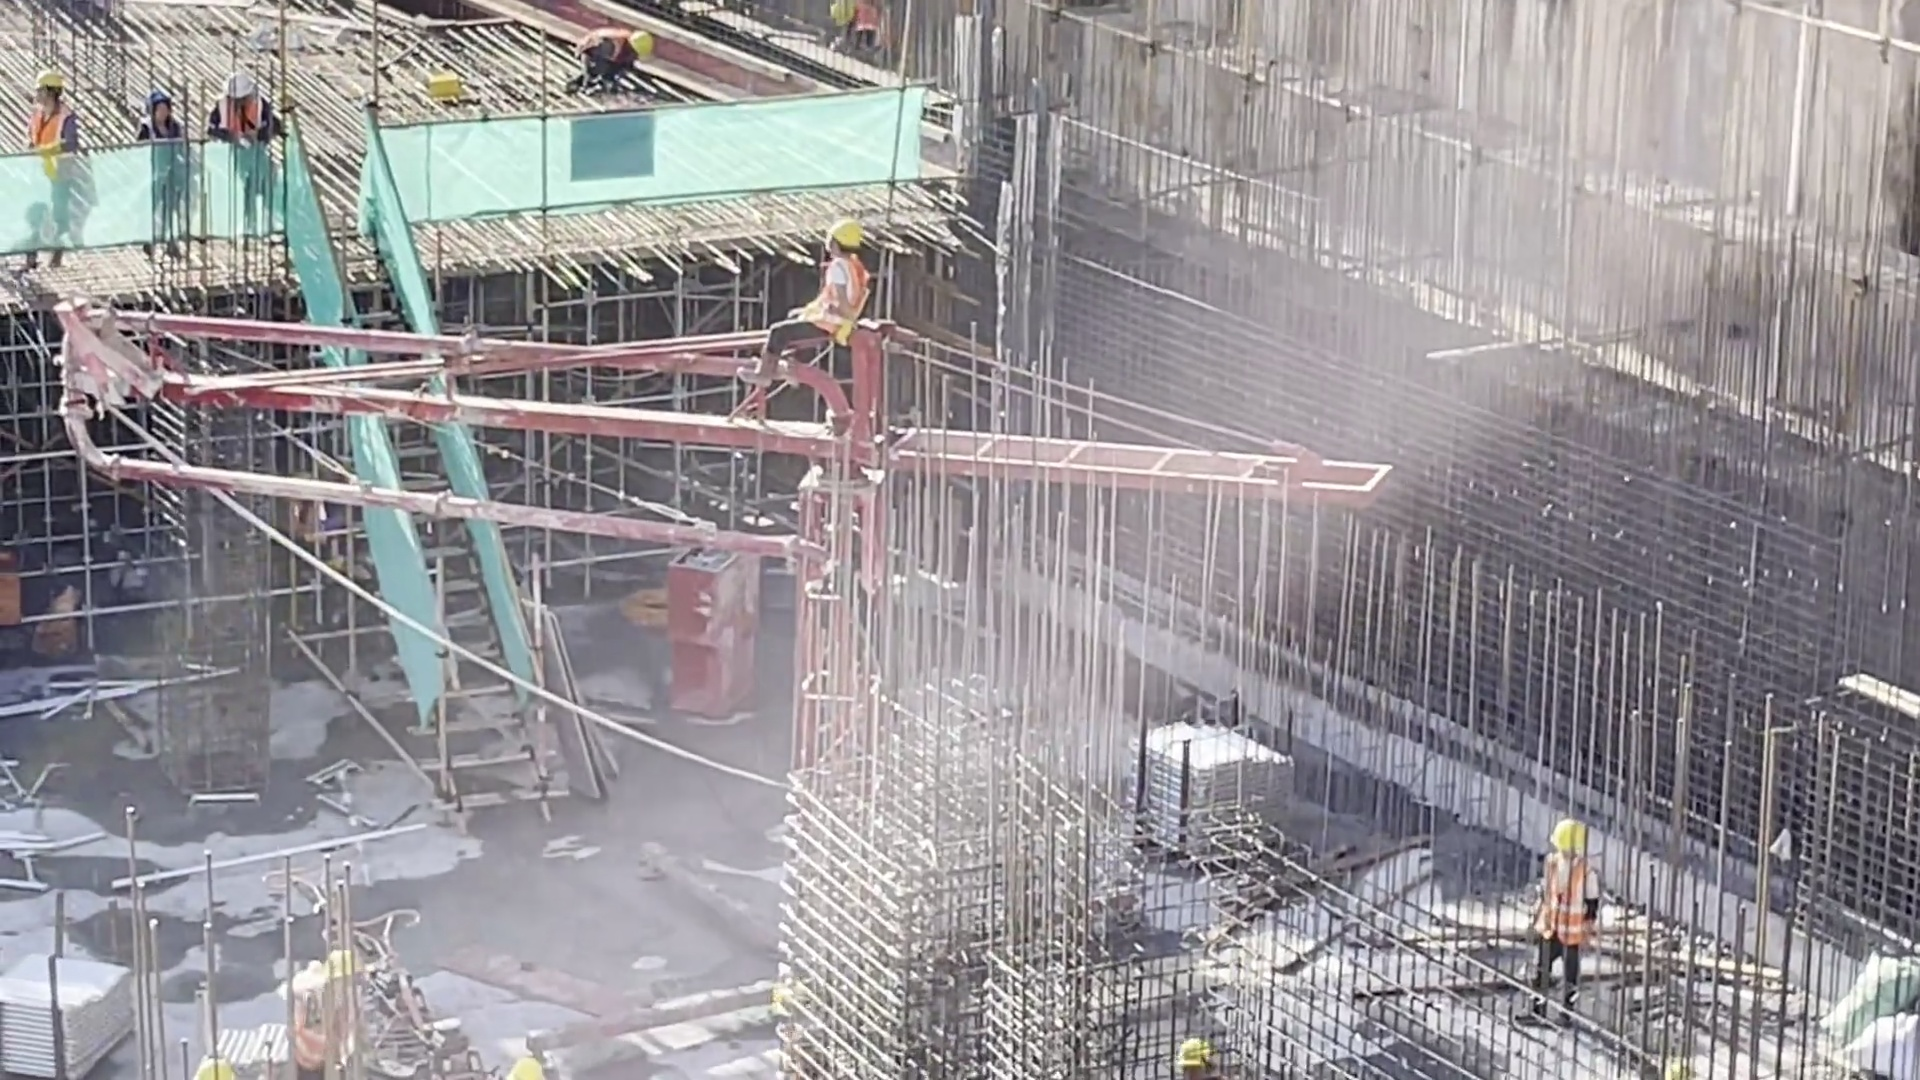helmet: (1543, 815, 1599, 860), (825, 217, 874, 260), (223, 69, 273, 102), (1178, 1035, 1219, 1075), (185, 1052, 241, 1080), (29, 67, 77, 98), (329, 953, 362, 994), (136, 83, 181, 109), (497, 1050, 532, 1080), (633, 27, 655, 69), (829, 1, 848, 30)
person: (723, 217, 892, 441), (1517, 806, 1614, 1031), (25, 67, 108, 276), (129, 94, 206, 279), (215, 61, 284, 245), (571, 12, 675, 122), (267, 952, 356, 1080), (814, 1, 897, 65)
scaffold: (1121, 716, 1294, 861), (1, 954, 143, 1077), (219, 1023, 319, 1068)
vest: (1534, 856, 1594, 950), (800, 260, 868, 334), (290, 979, 341, 1069), (222, 103, 274, 160), (128, 111, 191, 150), (28, 113, 79, 154), (584, 26, 629, 73), (852, 1, 885, 48)
